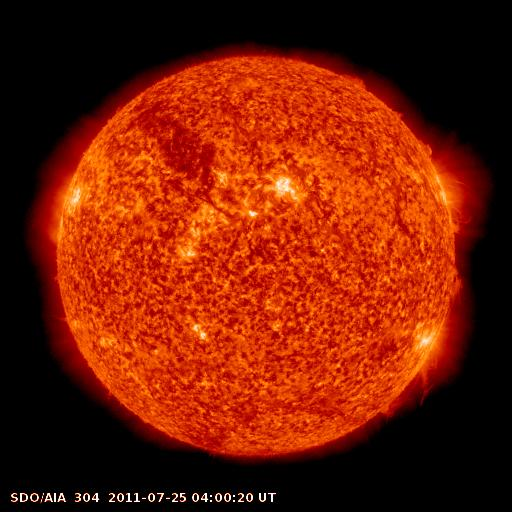prominence: (366, 353, 441, 427), (412, 130, 442, 164), (447, 261, 467, 306), (339, 68, 371, 90)
